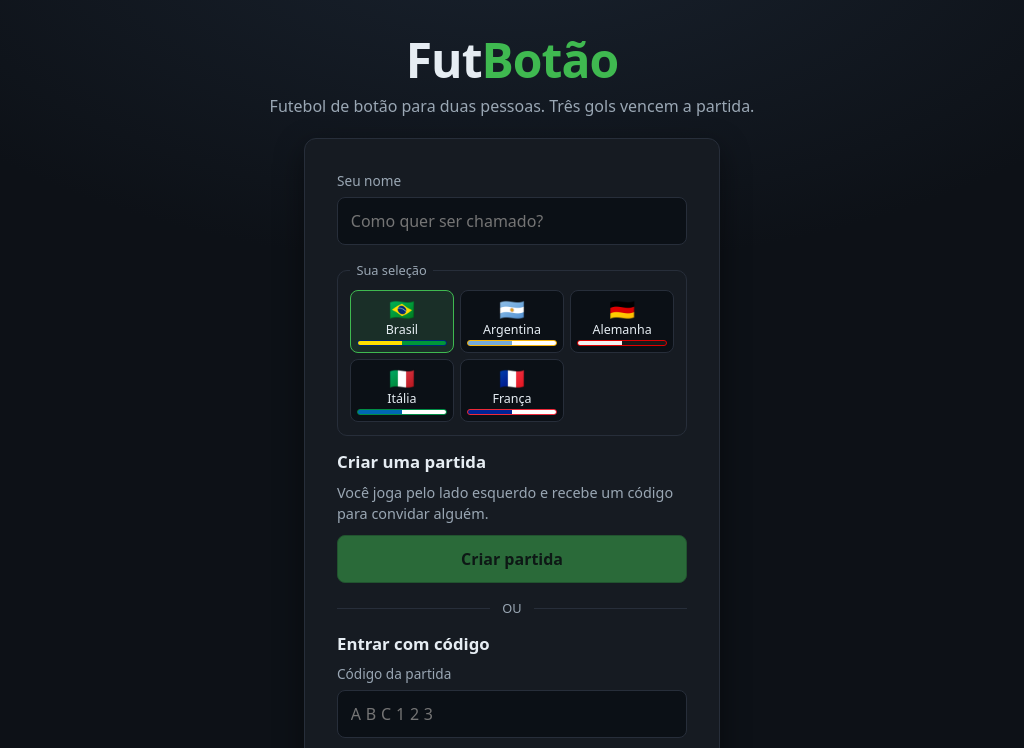
App: escolha de selecao e aviso de gol › anuncia o gol do jogador local
This screenshot has width=1024, height=748.
Type "Ana" into the field labelled "Seu nome".
click(512, 221); type("Ana")  # box left=337, top=197, right=687, bottom=245
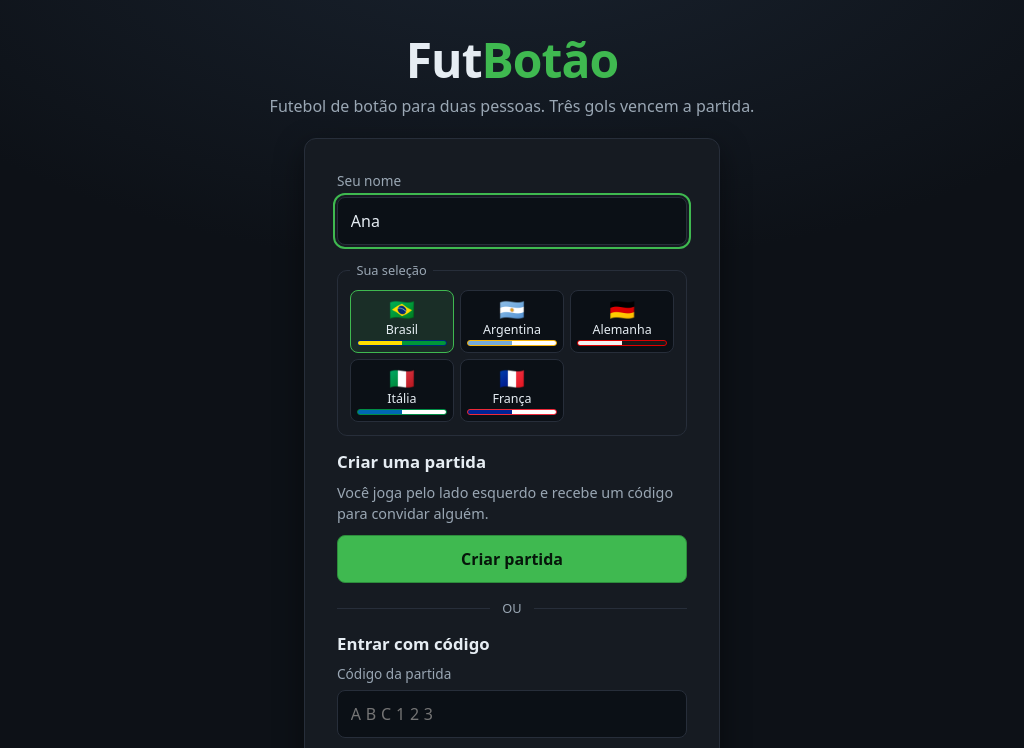
Click the button "Criar partida".
click(512, 559)  # box left=337, top=534, right=687, bottom=583
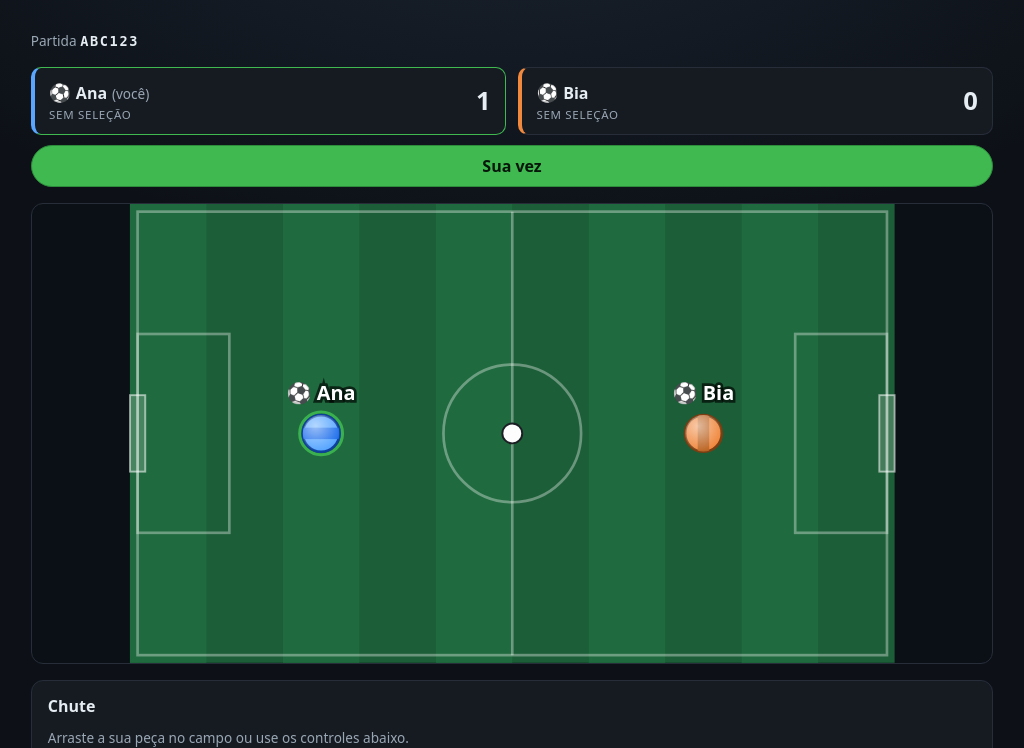
Expected: the text "Sua vez" is shown, left=31, top=145, right=993, bottom=187
